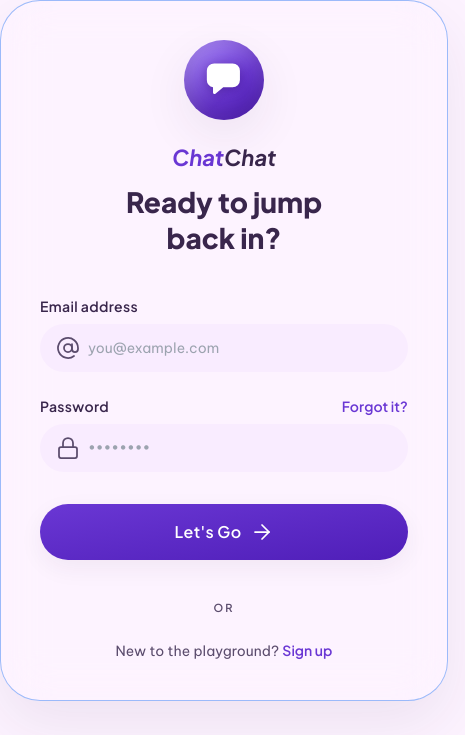
<LoginPage /> › requires2fa — swaps to TOTP step and preserves email hint
In the field labelled "Email address": (224, 348) [40,324,408,372], type "user2fa@example.com"
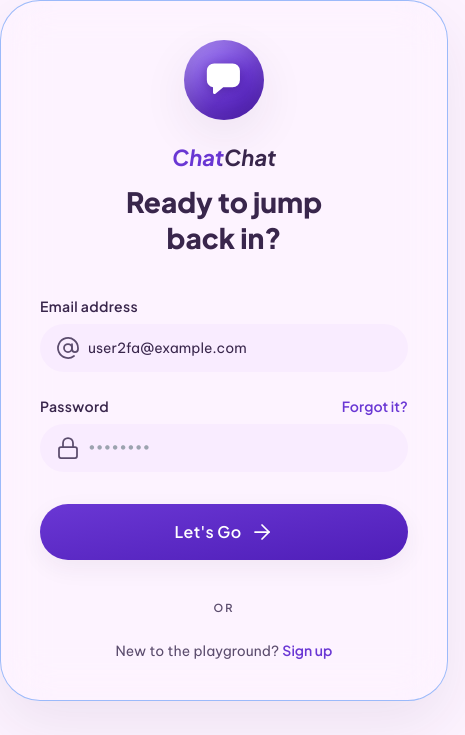
In the password field labelled "Password": (224, 448) [40,424,408,472], type "Secret123!"
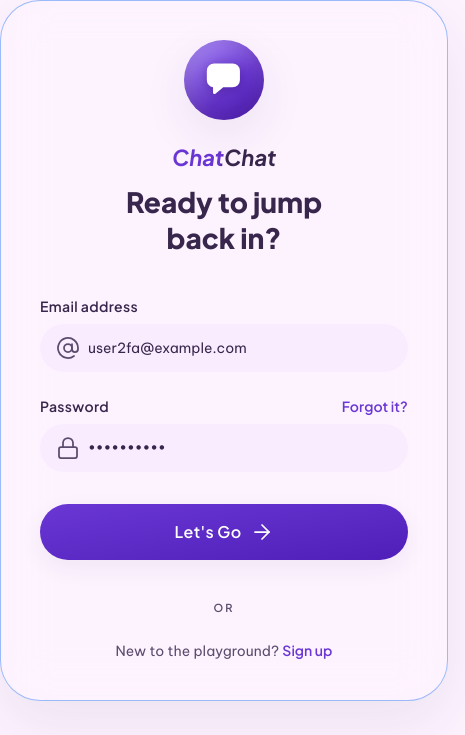
Click the button "Let's Go": (224, 532) [40,504,408,560]
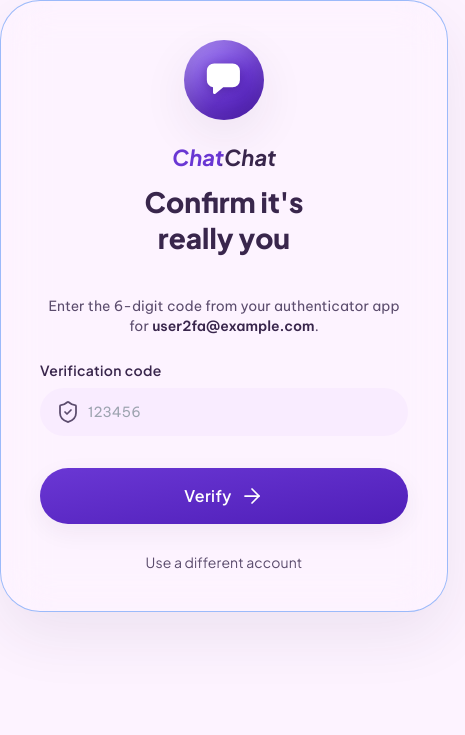
Expected: the field labelled "Verification code" is shown, [40,388,408,436]
Expected: the label labelled "Password" is gone
Expected: the text "user2fa@example.com" is shown, [152,317,315,335]
